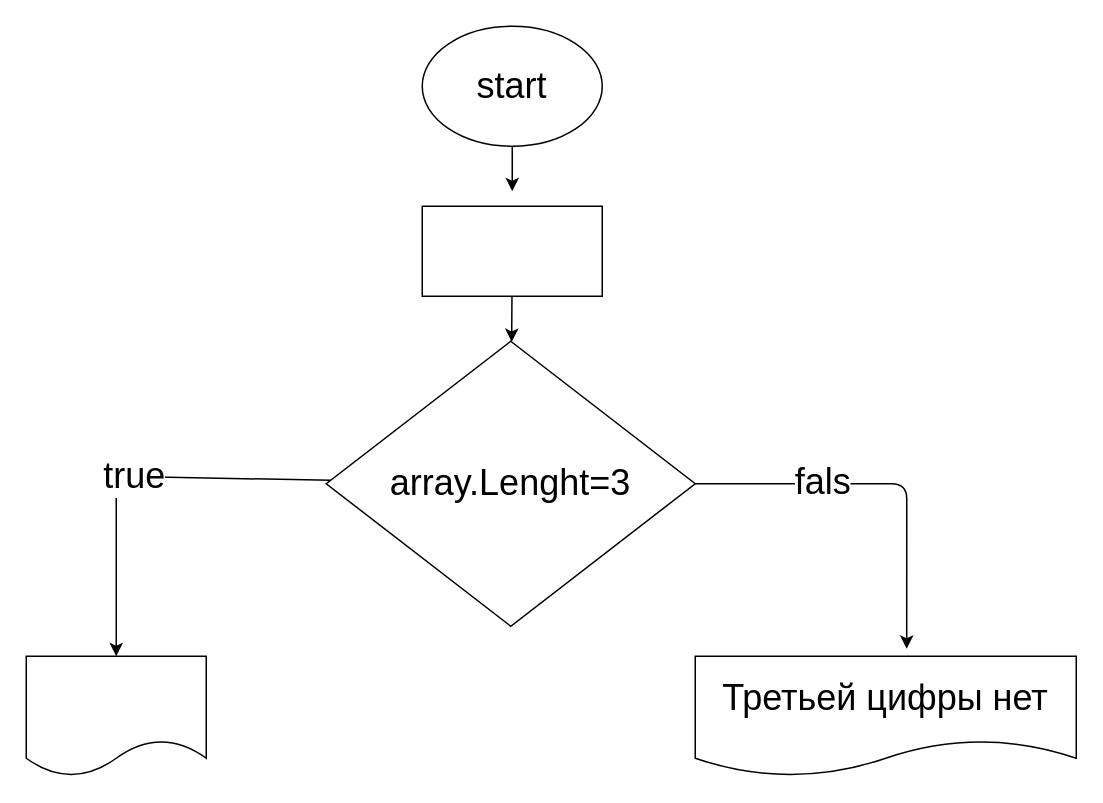
Image size: 1103x803. Some labels were removed from this diagram. The box of each missing label's shape, as (x1, y1, x2, y2) in pixels:
array[...]: (421, 205, 602, 296)
array[2]: (25, 655, 206, 776)
